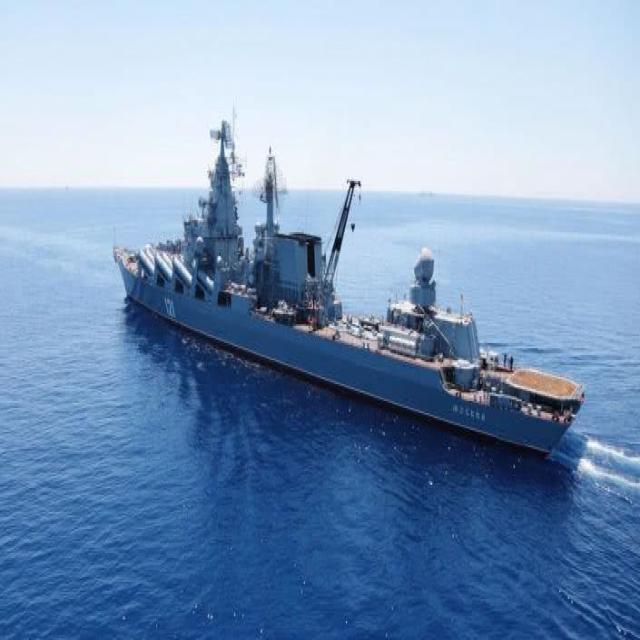navalvessels: (107, 90, 594, 490)
